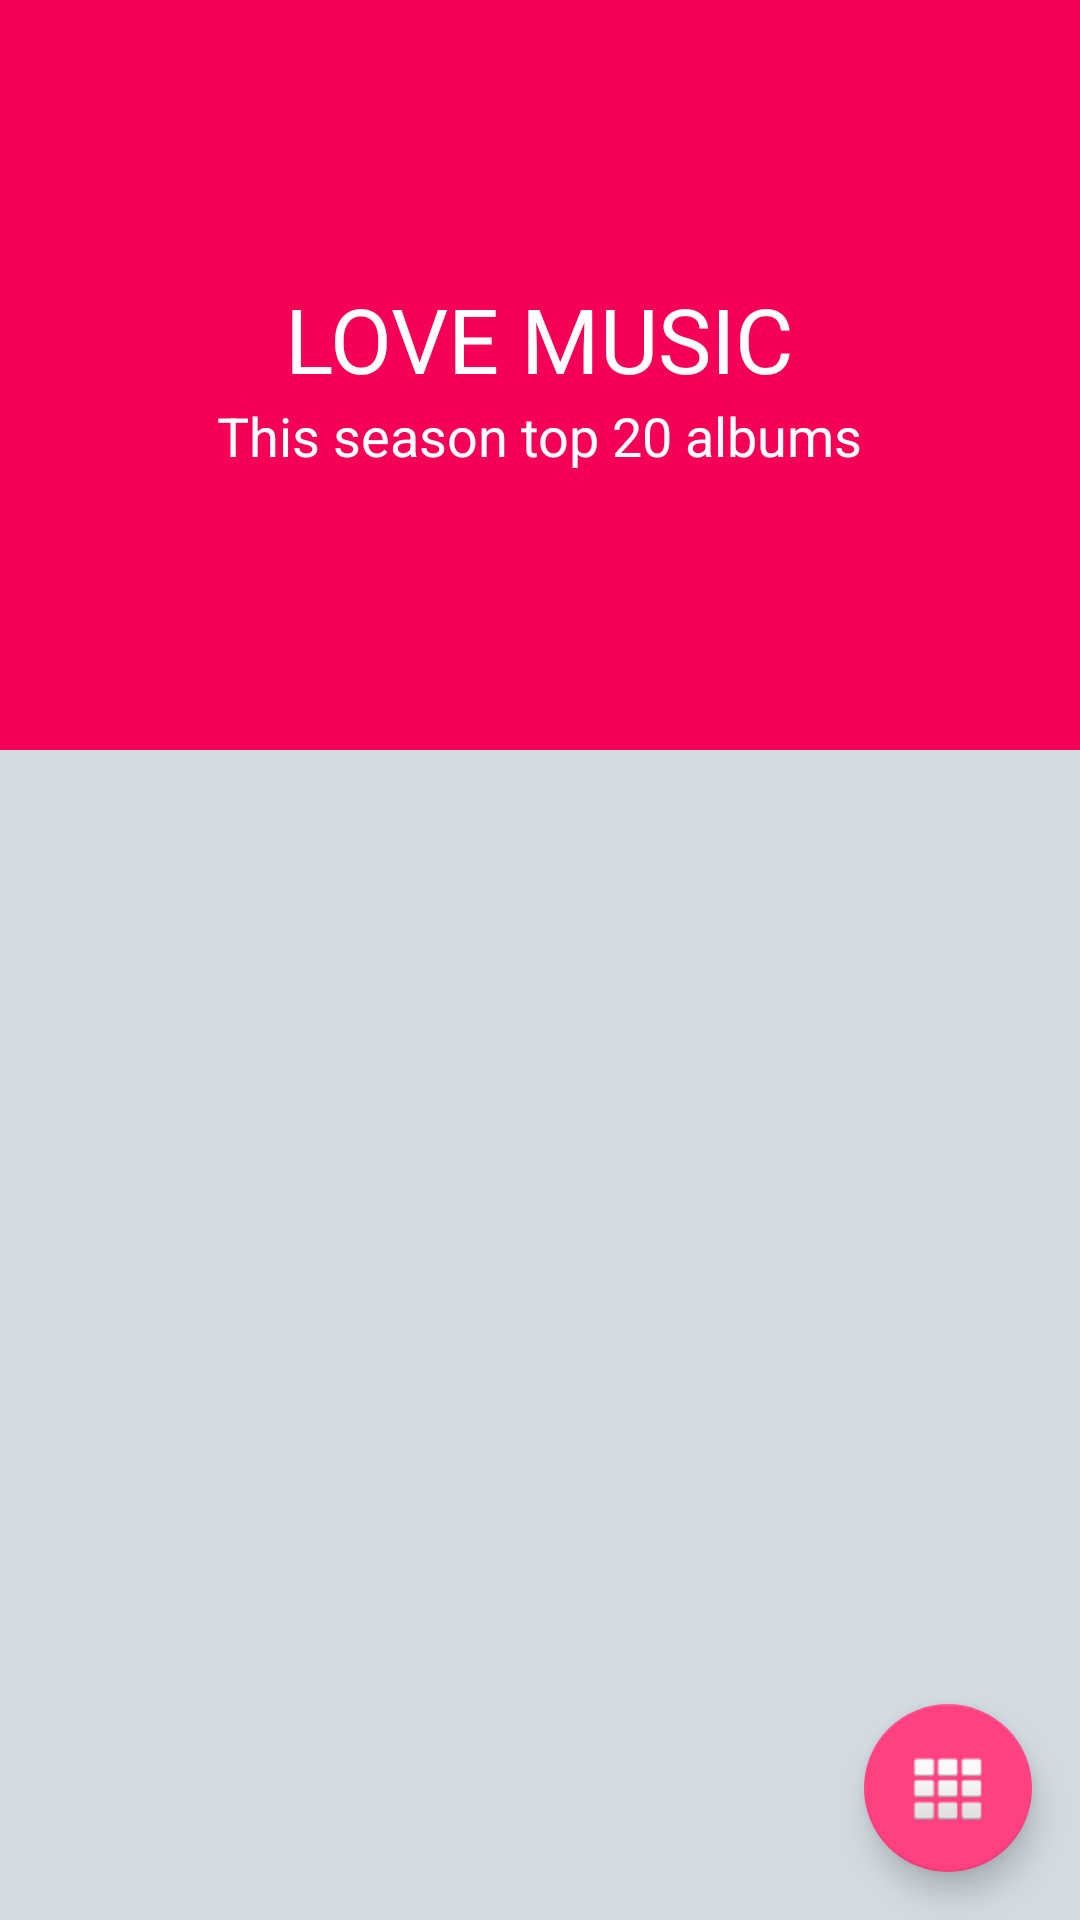

Screen size 1080 x 1920. Icon name, then its center in pixels as (x=x, y=y):
dialer: (x=948, y=1788)
